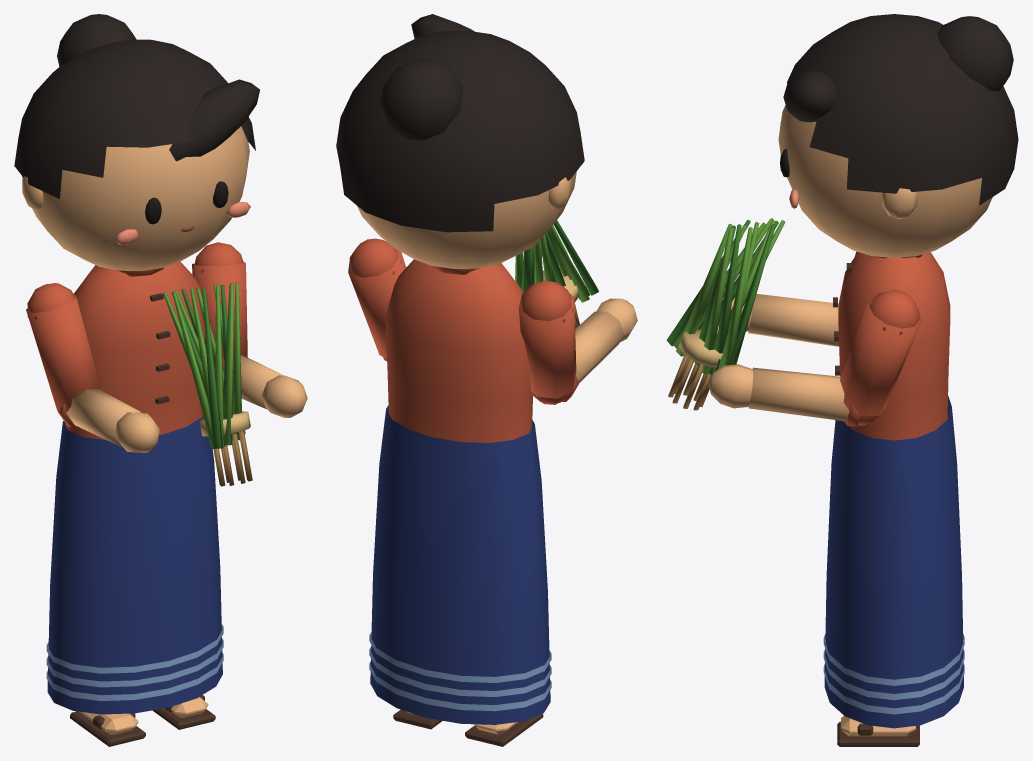
Rendered from era1_seedling_woman.glb.
The picture shows the model from 3 angles, left to right: view 1: azimuth 30°, elevation 25°; view 2: azimuth 150°, elevation 25°; view 3: azimuth 270°, elevation 25°; orthographic projection. The views are drawn at different scales.
Visible parts, largest first — view 1: body, head, prop_rice_seedlings, arm_R, forearm_R, arm_L, forearm_L, shin_R, shin_L; view 2: body, head, arm_R, arm_L, prop_rice_seedlings, forearm_R, shin_R, shin_L; view 3: body, head, prop_rice_seedlings, arm_L, forearm_L, forearm_R, shin_L.
Boxes of the visible parts, box(x1,y1,x2,y2) form: body: box(46, 261, 223, 714); head: box(14, 14, 259, 270); prop_rice_seedlings: box(163, 282, 252, 486); arm_R: box(26, 283, 100, 418); forearm_R: box(58, 389, 159, 452); arm_L: box(192, 242, 247, 367); forearm_L: box(215, 354, 307, 417); shin_R: box(70, 711, 145, 746); shin_L: box(152, 695, 215, 729); body: box(369, 259, 551, 724); head: box(336, 14, 584, 268); arm_R: box(518, 280, 576, 404); arm_L: box(348, 238, 406, 361); prop_rice_seedlings: box(515, 220, 598, 328); forearm_R: box(531, 298, 637, 402); shin_R: box(465, 714, 543, 746); shin_L: box(393, 709, 442, 729); body: box(823, 252, 964, 728); head: box(778, 14, 1018, 257); prop_rice_seedlings: box(666, 218, 785, 410); arm_L: box(840, 289, 921, 425); forearm_L: box(708, 364, 878, 426); forearm_R: box(718, 294, 839, 346); shin_L: box(837, 716, 919, 746).
Size of the model in its own units: 0.4938 by 1.47 by 0.6698.
